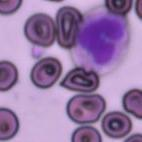N: (70, 7, 130, 74)
